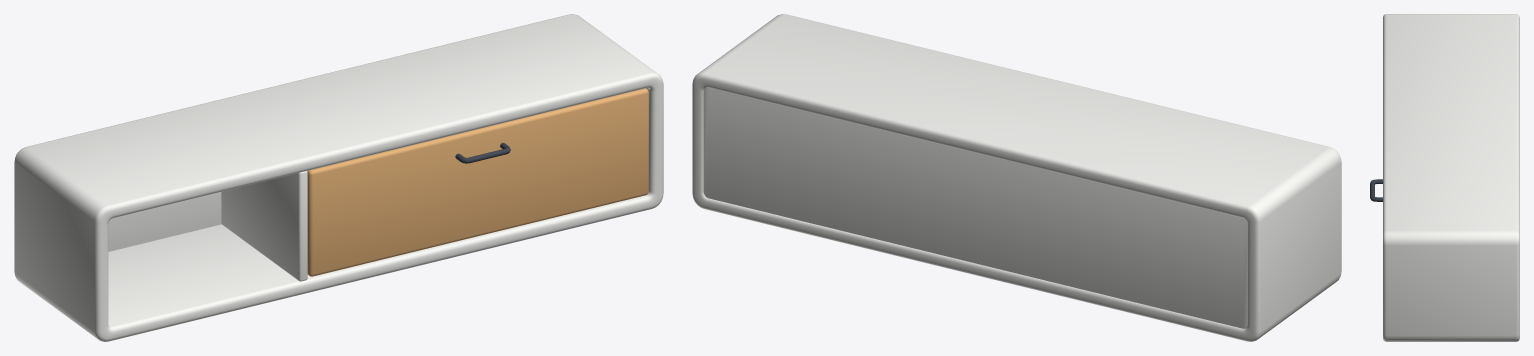
File: rack_suspenso_branco.glb
3 views of the same model, side by side, from view 1: azimuth 30°, elevation 25°; view 2: azimuth 150°, elevation 25°; view 3: azimuth 270°, elevation 25° (orthographic). The views are drawn at different scales.
Visible parts, largest first — view 1: rack_suspenso_branco, porta_1; view 2: rack_suspenso_branco; view 3: rack_suspenso_branco, porta_1.
Boxes of the visible parts, x1=… form: rack_suspenso_branco: x1=14, y1=14, x2=663, y2=341; porta_1: x1=307, y1=88, x2=648, y2=276; rack_suspenso_branco: x1=692, y1=14, x2=1341, y2=341; rack_suspenso_branco: x1=1383, y1=14, x2=1519, y2=341; porta_1: x1=1370, y1=179, x2=1382, y2=201.
Bounding box in the file's own units: 1.4 × 0.32 × 0.3935.
1 material, 1 textured.
